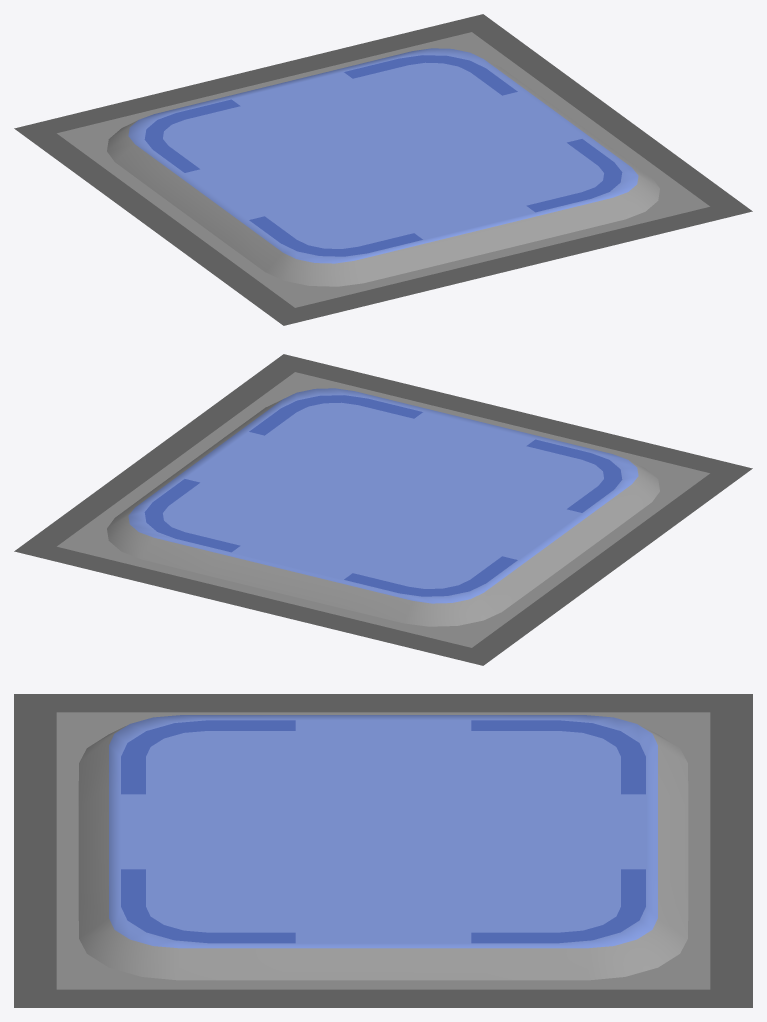
The model's file is tile_blue.fbx.
The picture shows the model from 3 angles, top to bottom: view 1: azimuth 30°, elevation 25°; view 2: azimuth 150°, elevation 25°; view 3: azimuth 270°, elevation 25°; orthographic projection. The views are drawn at different scales.
Parts seen in each view (by area): view 1: tile_REN; view 2: tile_REN; view 3: tile_REN.
Part boxes in pixels (<box>): tile_REN: <box>14,14,752,325</box>; tile_REN: <box>14,354,752,665</box>; tile_REN: <box>14,694,752,1007</box>.
Size of the model in its own units: 4 by 0.1145 by 3.98.
